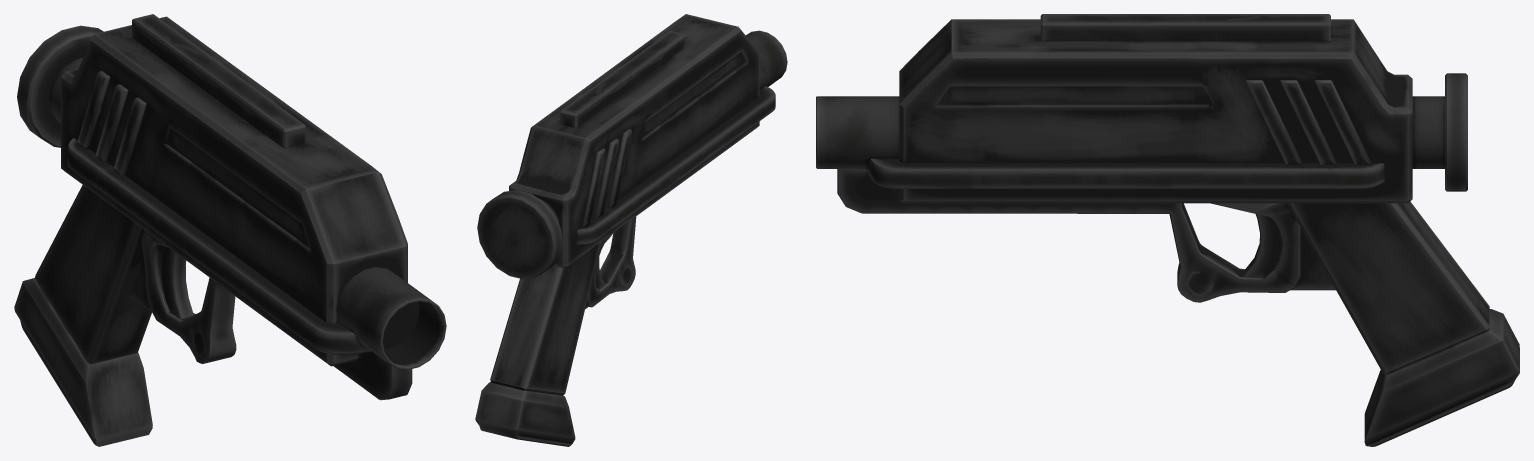
3 renders of one model, left to right at view 1: azimuth 30°, elevation 25°; view 2: azimuth 150°, elevation 25°; view 3: azimuth 270°, elevation 25°, orthographic. The views are drawn at different scales.
Parts seen in each view (by area): view 1: DC-17; view 2: DC-17; view 3: DC-17.
Part boxes in pixels (bbox=[...]): DC-17: bbox=[14, 14, 446, 446]; DC-17: bbox=[475, 14, 787, 446]; DC-17: bbox=[816, 14, 1519, 446].
Size of the model in its own units: 0.0486 by 0.1832 by 0.2803.
Materials: 1 (1 with a texture image).
